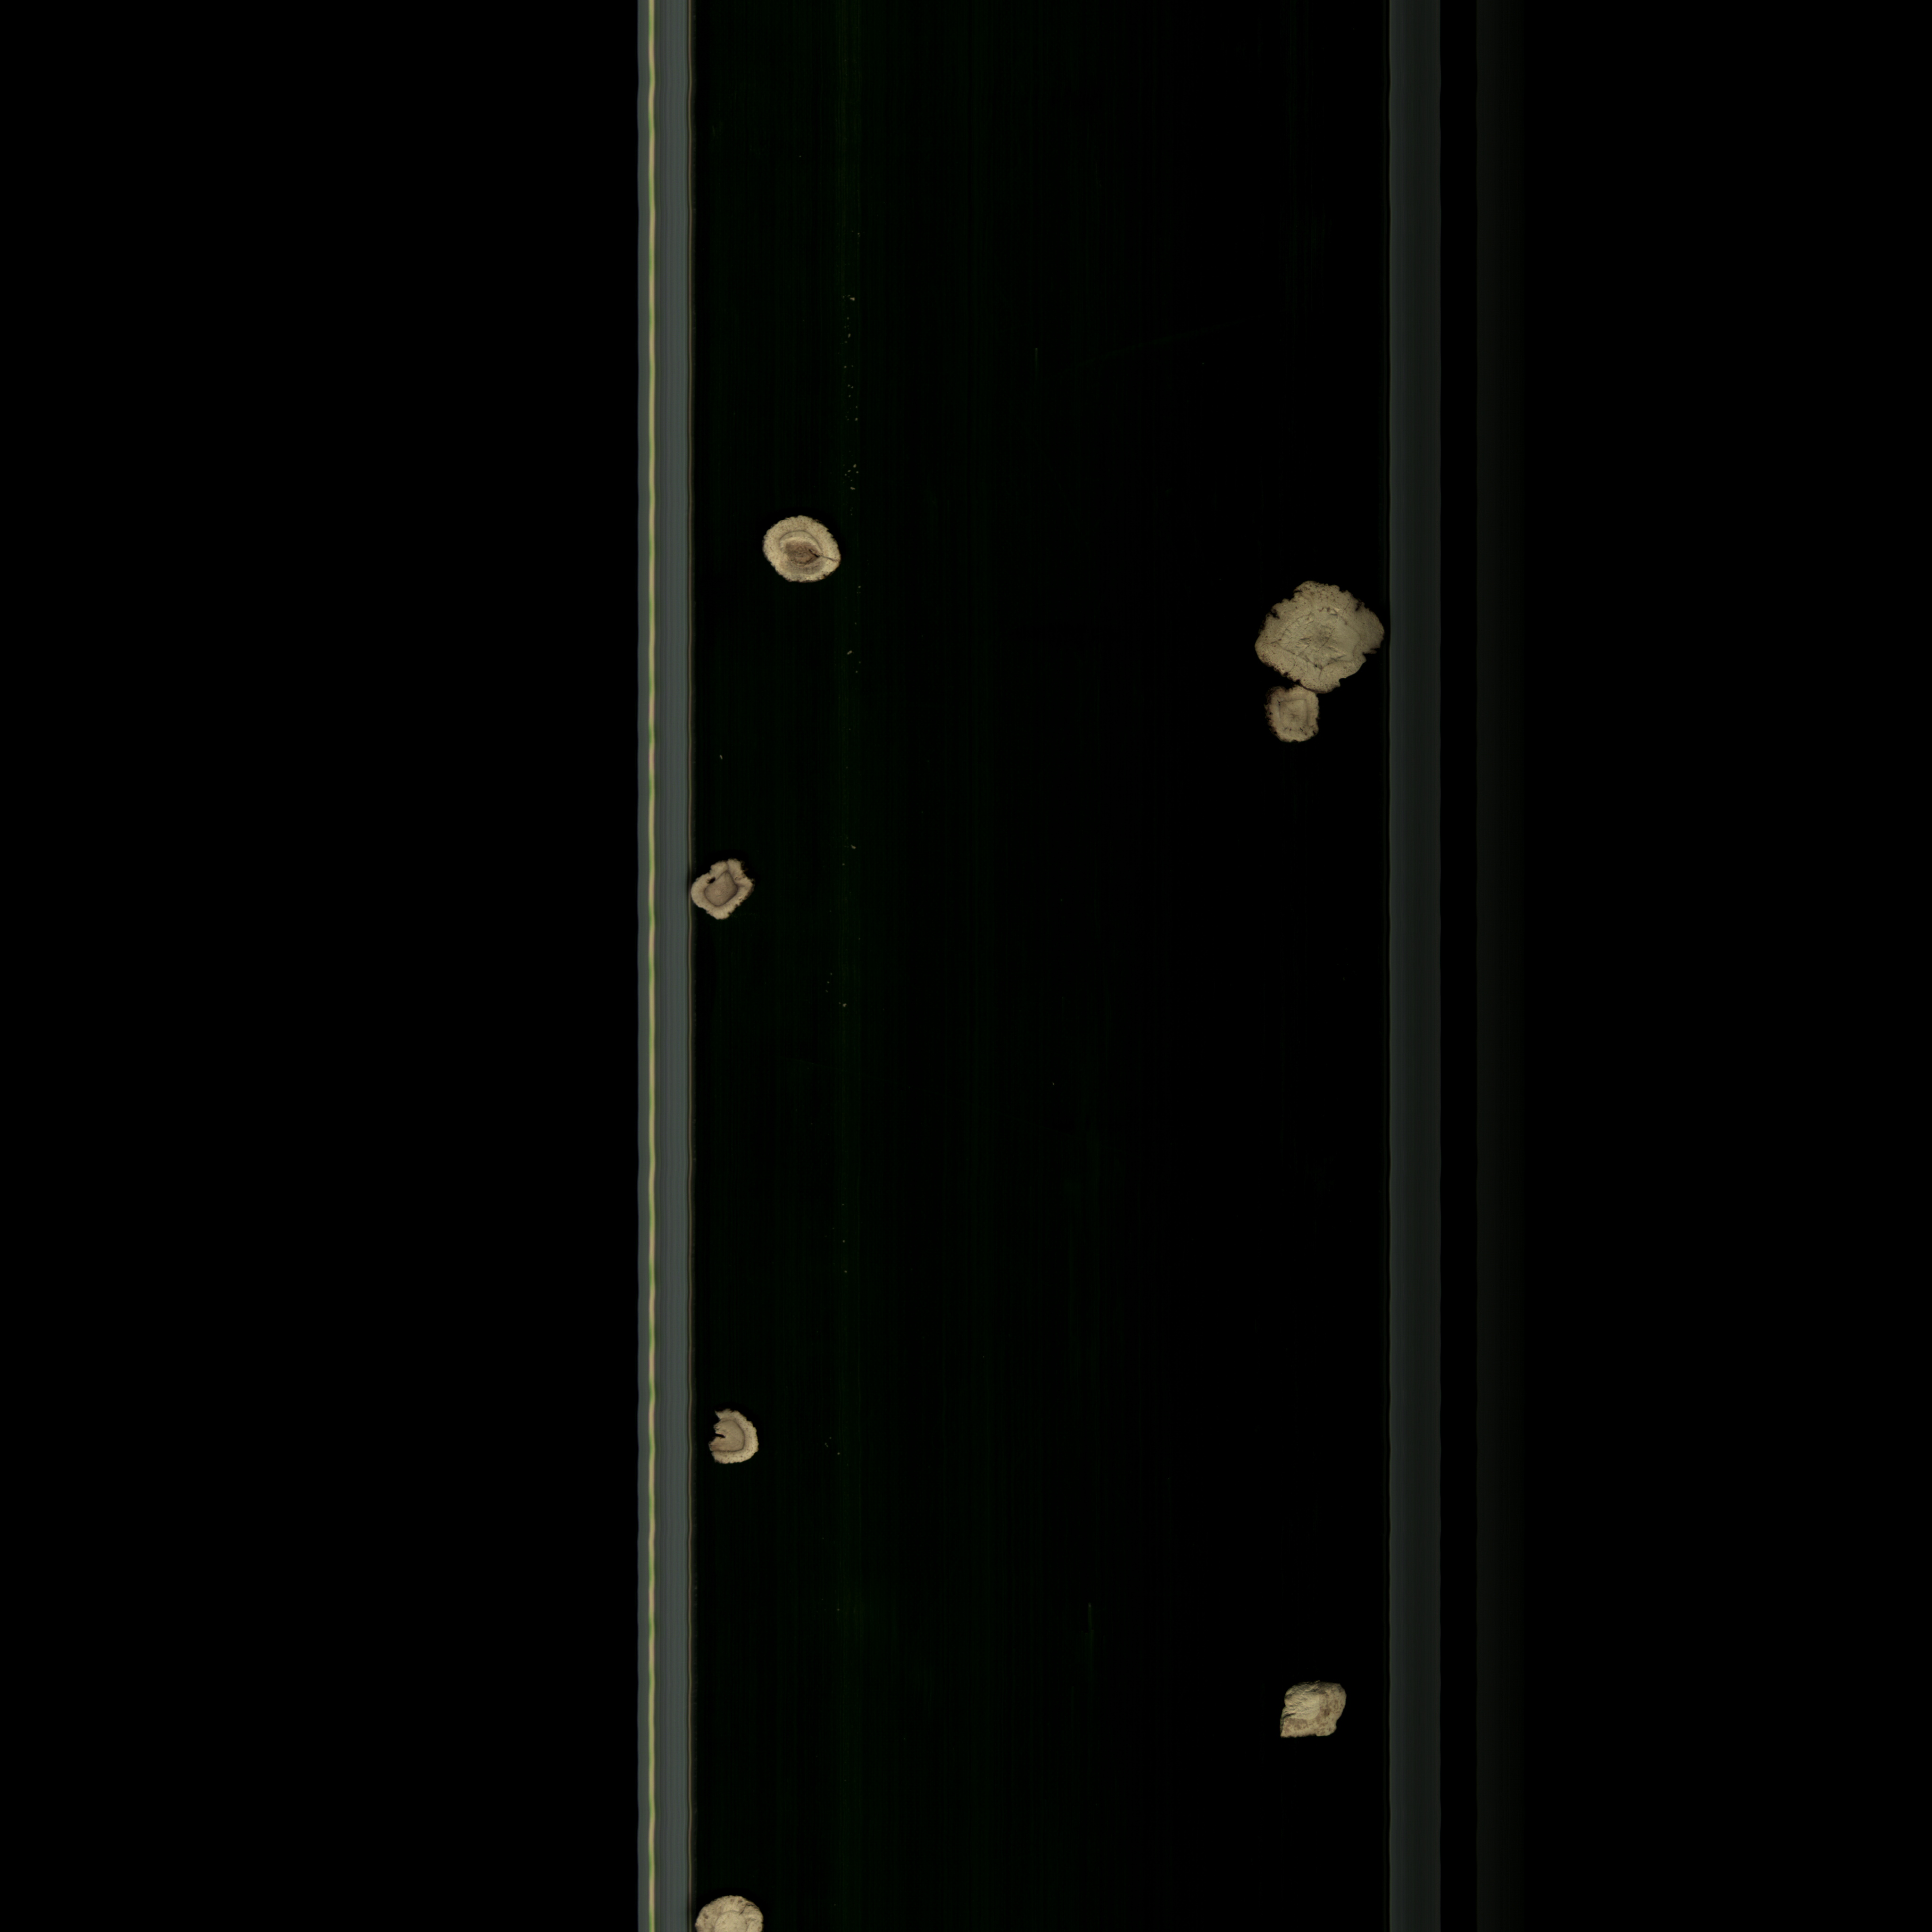debris: (1270, 1675, 1361, 1755)
distortion: (1246, 561, 1396, 697), (1261, 678, 1329, 755)
moldy: (750, 502, 855, 596), (678, 849, 777, 929), (708, 1396, 773, 1479)
